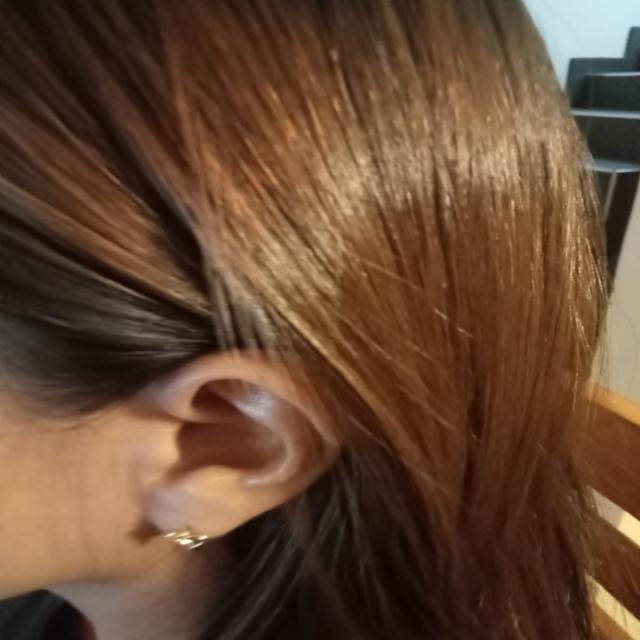ear: (142, 351, 338, 549)
